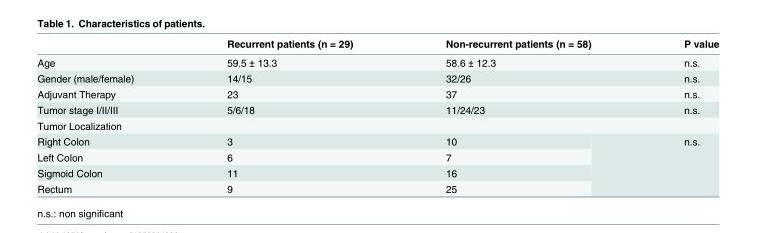table: (36, 37, 718, 194)
table column: (398, 37, 636, 194), (179, 37, 398, 194), (36, 37, 179, 194), (636, 37, 718, 194)
table column header: (36, 37, 718, 52)
table projected row header: (36, 117, 718, 133)
table row: (36, 52, 718, 70), (36, 85, 718, 101), (36, 101, 718, 117), (36, 117, 718, 133), (36, 148, 718, 164), (36, 164, 718, 180), (36, 37, 718, 52), (36, 70, 718, 85), (36, 133, 718, 148), (36, 180, 718, 194)
table spanning cell: (636, 133, 718, 194)
